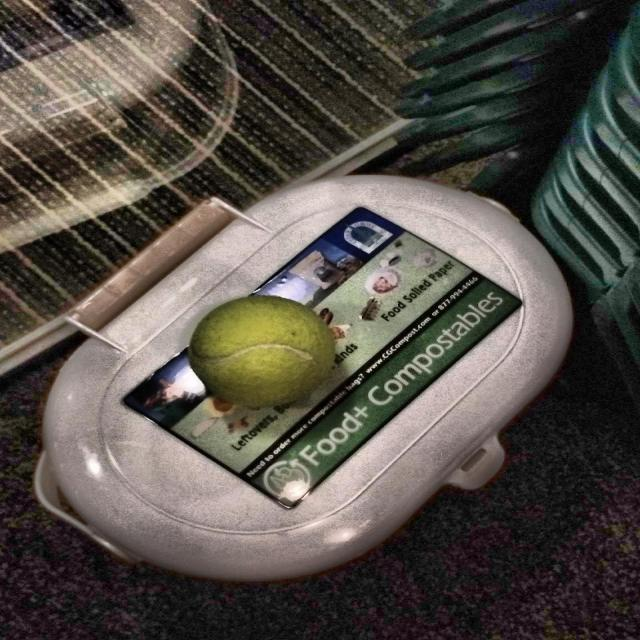tennis-ball: (194, 296, 334, 412)
